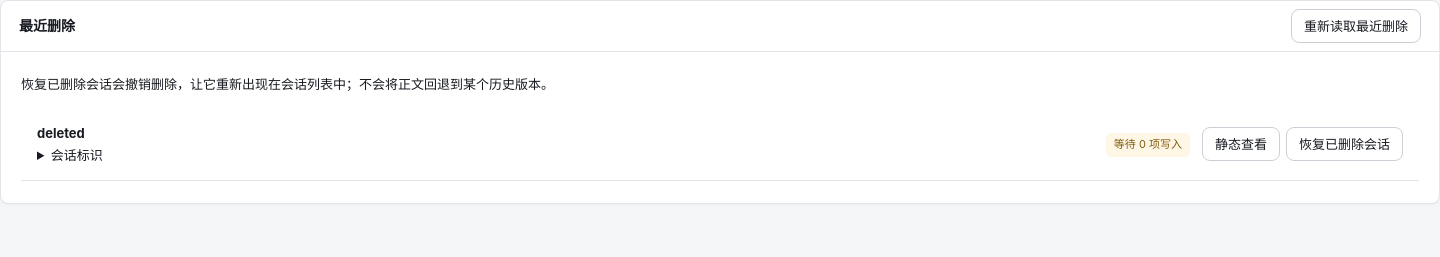
recovery and storage explanations › keeps deleted sessions visible when restore fails and makes the failure explicit
Click the button "恢复已删除会话" at (1344, 144), box [1286, 127, 1403, 161]
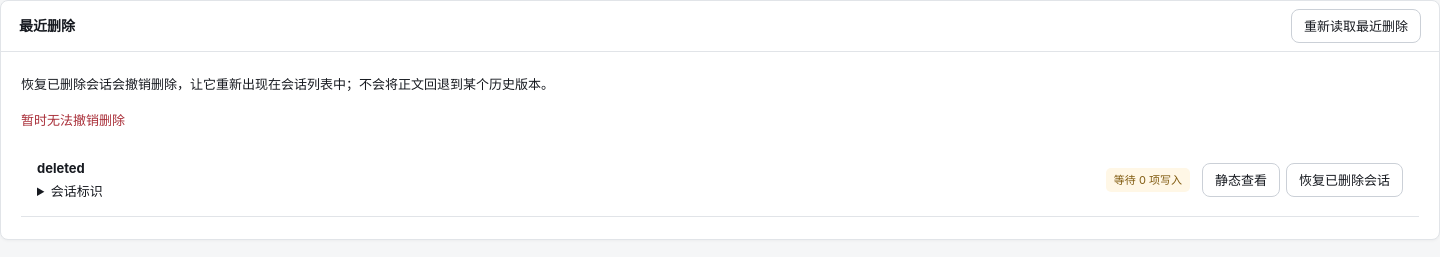
Expected: the element with test id "recently-deleted-deleted" is shown, [21, 144, 1419, 216]
Expected: the message "暂时无法撤销删除" is shown, [21, 112, 125, 128]
